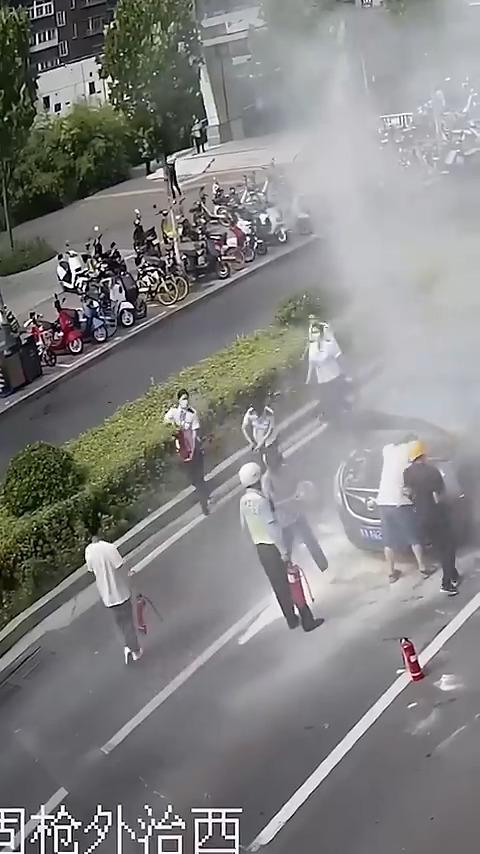FireExtinguisher: (396, 634, 433, 686), (282, 558, 311, 616), (132, 590, 164, 642), (168, 422, 187, 462)
